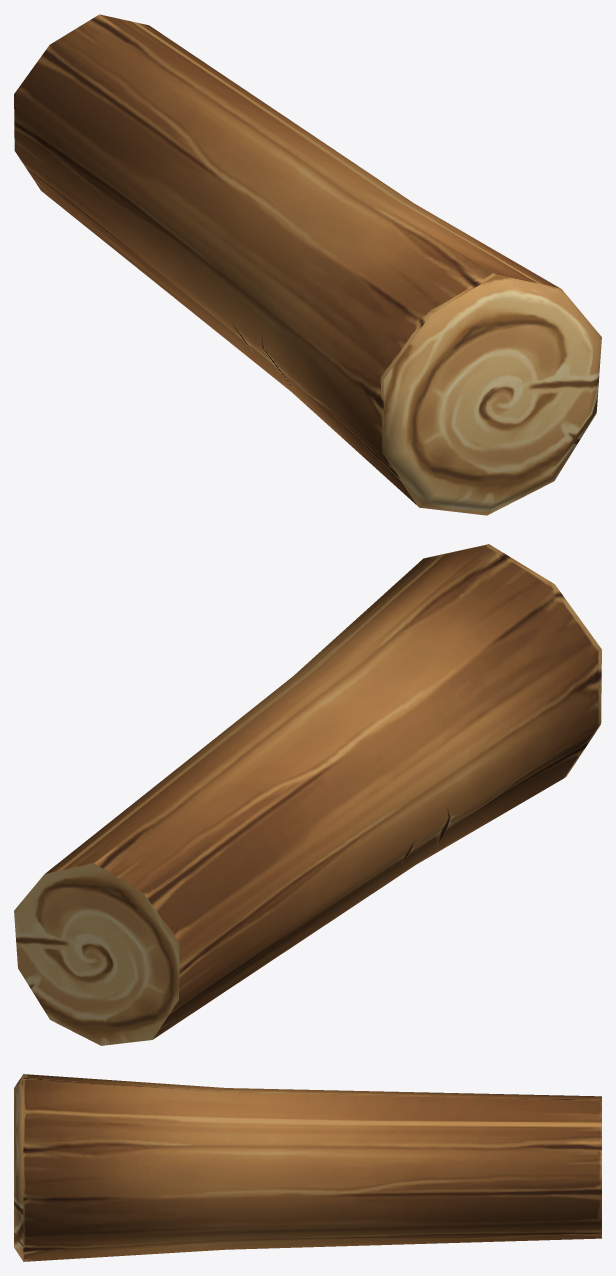
The model's file is DE_House_Mod_Part_29b.fbx.
3 views of the same model, one above another, from view 1: azimuth 30°, elevation 25°; view 2: azimuth 150°, elevation 25°; view 3: azimuth 270°, elevation 25° (orthographic). The views are drawn at different scales.
Parts seen in each view (by area): view 1: DE_House_Mod_Part_29b; view 2: DE_House_Mod_Part_29b; view 3: DE_House_Mod_Part_29b.
Part boxes in pixels (<box>): DE_House_Mod_Part_29b: <box>14,14,601,515</box>; DE_House_Mod_Part_29b: <box>14,544,601,1045</box>; DE_House_Mod_Part_29b: <box>14,1074,601,1261</box>.
Size of the model in its own units: 0.5309 by 0.5541 by 1.69.
